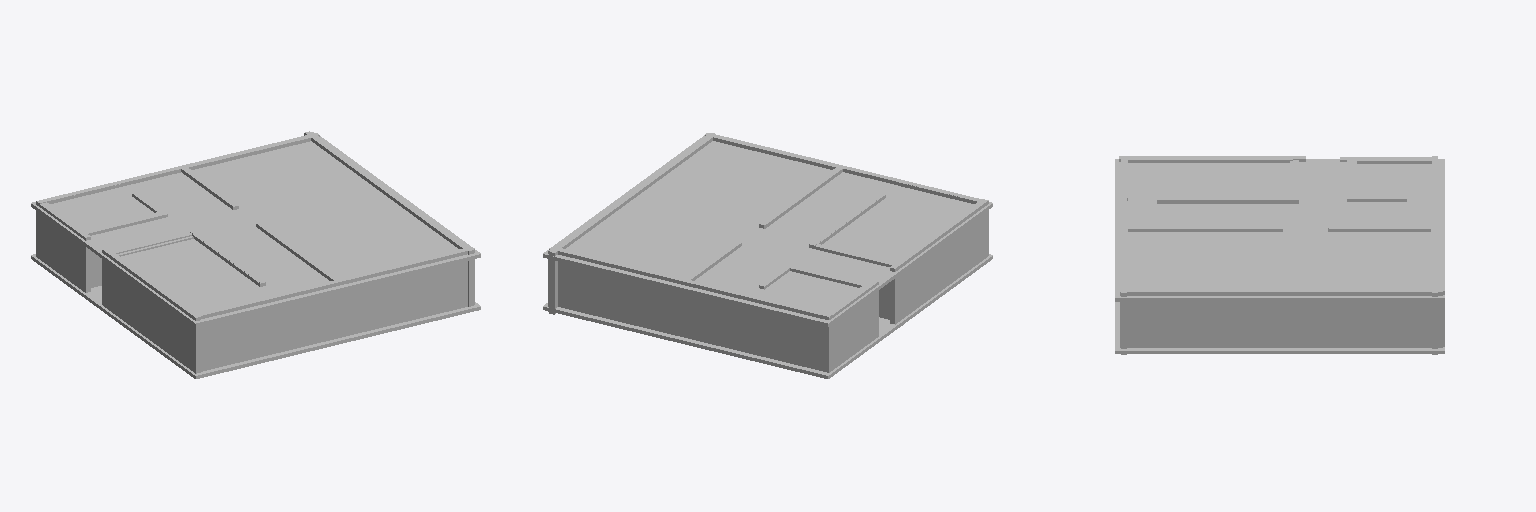
Rendered from квартира.obj.
3 renders of one model, left to right at view 1: azimuth 30°, elevation 25°; view 2: azimuth 150°, elevation 25°; view 3: azimuth 270°, elevation 25°, orthographic.
Parts seen in each view (by area): view 1: Cube.027_Cube.029; view 2: Cube.027_Cube.029; view 3: Cube.027_Cube.029.
Part boxes in pixels (left/top/right/bottom): Cube.027_Cube.029: left=31, top=131, right=480, bottom=378; Cube.027_Cube.029: left=543, top=133, right=992, bottom=378; Cube.027_Cube.029: left=1115, top=156, right=1444, bottom=354.
Bounding box in the file's own units: 30.78 × 6.41 × 30.78.